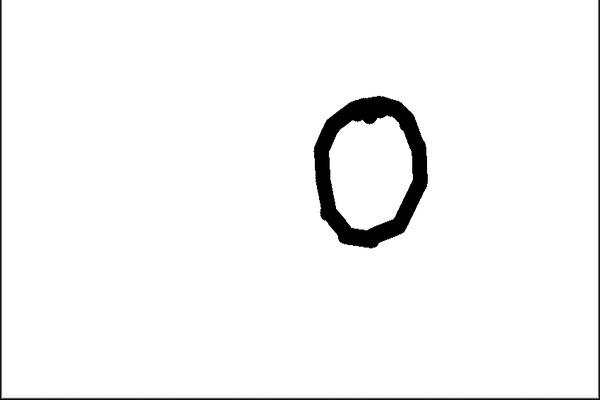O: (299, 88, 434, 251)
